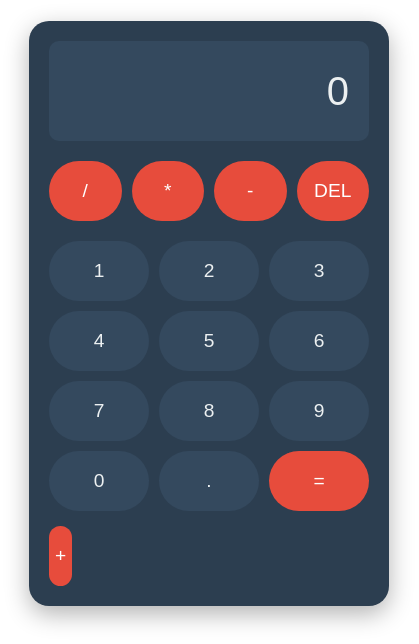
Scenario: can input numbers
Click the button "1" at (99, 271), box [49,241,149,301]
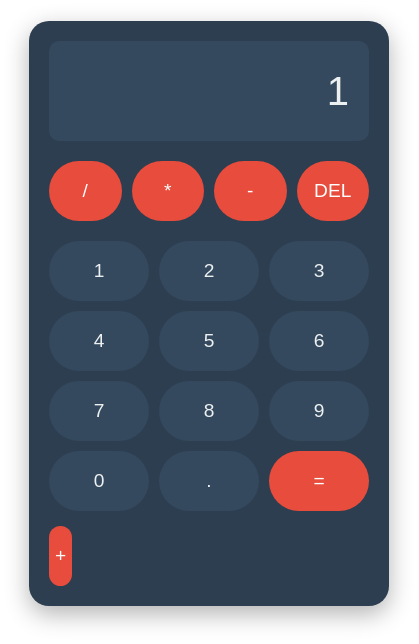
Click the button "2" at (209, 271), box [159,241,259,301]
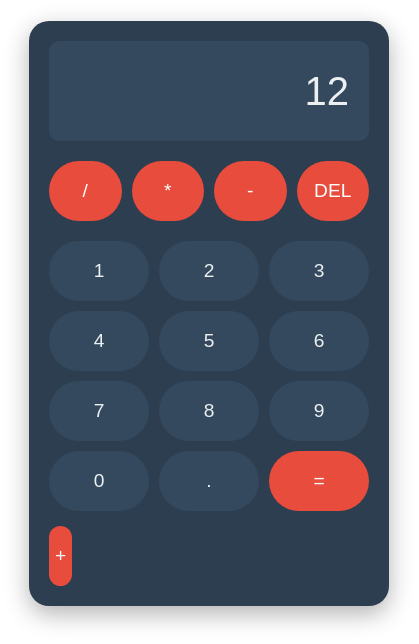
Click the button "3" at (319, 271), box [269,241,369,301]
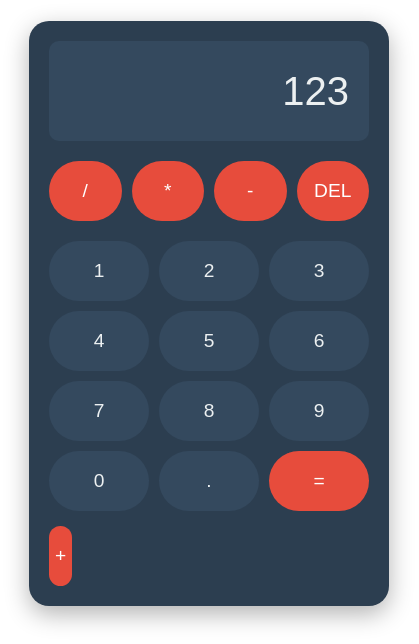
Result: the text "123" is shown at [282,68,349,112]
